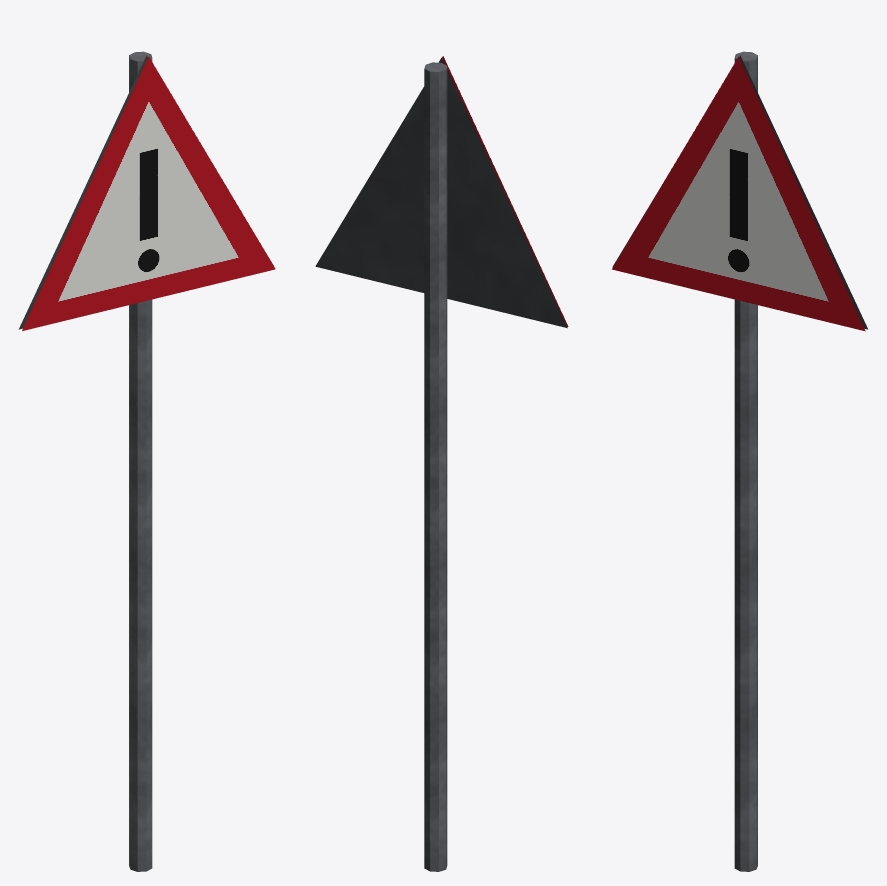
The model's file is de_danger.glb.
3 renders of one model, left to right at view 1: azimuth 30°, elevation 25°; view 2: azimuth 150°, elevation 25°; view 3: azimuth 330°, elevation 25°, orthographic.
Visible parts, largest first — view 1: de_danger; view 2: de_danger; view 3: de_danger.
Part boxes in pixels (left/top/right/bottom): de_danger: left=18, top=51, right=275, bottom=871; de_danger: left=315, top=56, right=568, bottom=871; de_danger: left=612, top=51, right=868, bottom=871.
Size of the model in its own units: 0.9 by 2.65 by 0.08.
3 materials, 3 textured.
